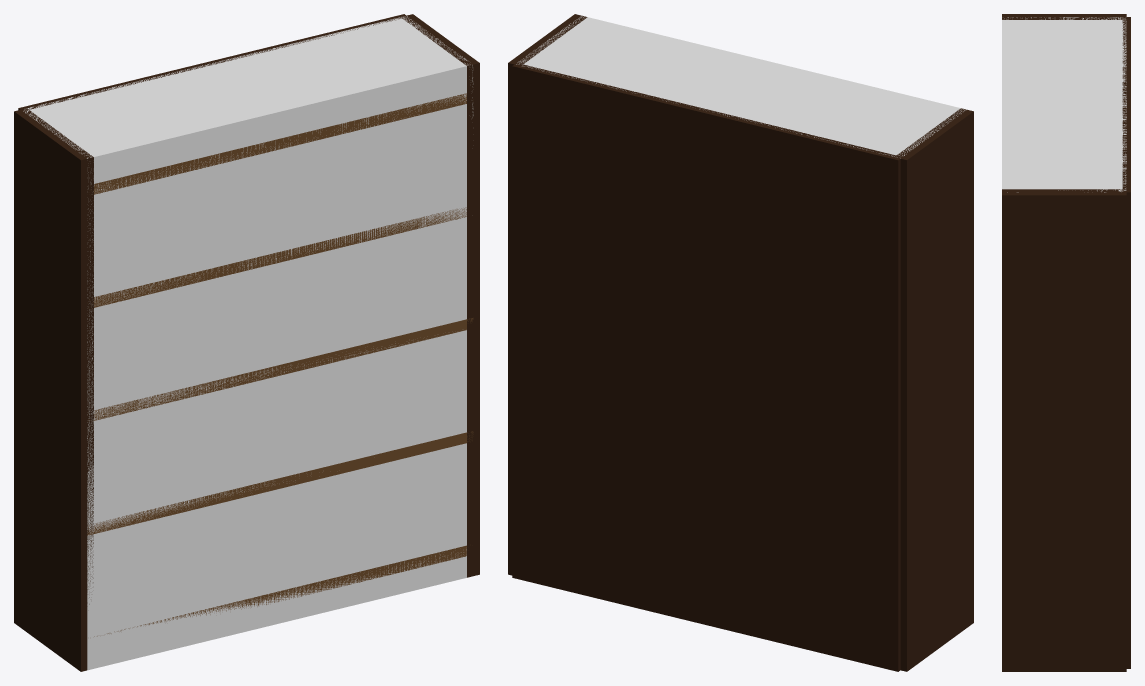
The model's file is Shelf.fbx.
3 views of the same model, side by side, from view 1: azimuth 30°, elevation 25°; view 2: azimuth 150°, elevation 25°; view 3: azimuth 270°, elevation 25° (orthographic). The views are drawn at different scales.
Parts seen in each view (by area): view 1: COL_Shelf_0, Shelf; view 2: Shelf, COL_Shelf_0; view 3: Shelf, COL_Shelf_0.
Part boxes in pixels (bbox=[...]): COL_Shelf_0: bbox=[23, 16, 473, 670]; Shelf: bbox=[14, 14, 479, 671]; Shelf: bbox=[508, 14, 973, 671]; COL_Shelf_0: bbox=[516, 16, 966, 158]; Shelf: bbox=[1002, 14, 1130, 671]; COL_Shelf_0: bbox=[1002, 17, 1126, 192].
Bounding box in the file's own units: 1.55 × 1.9 × 0.465.
